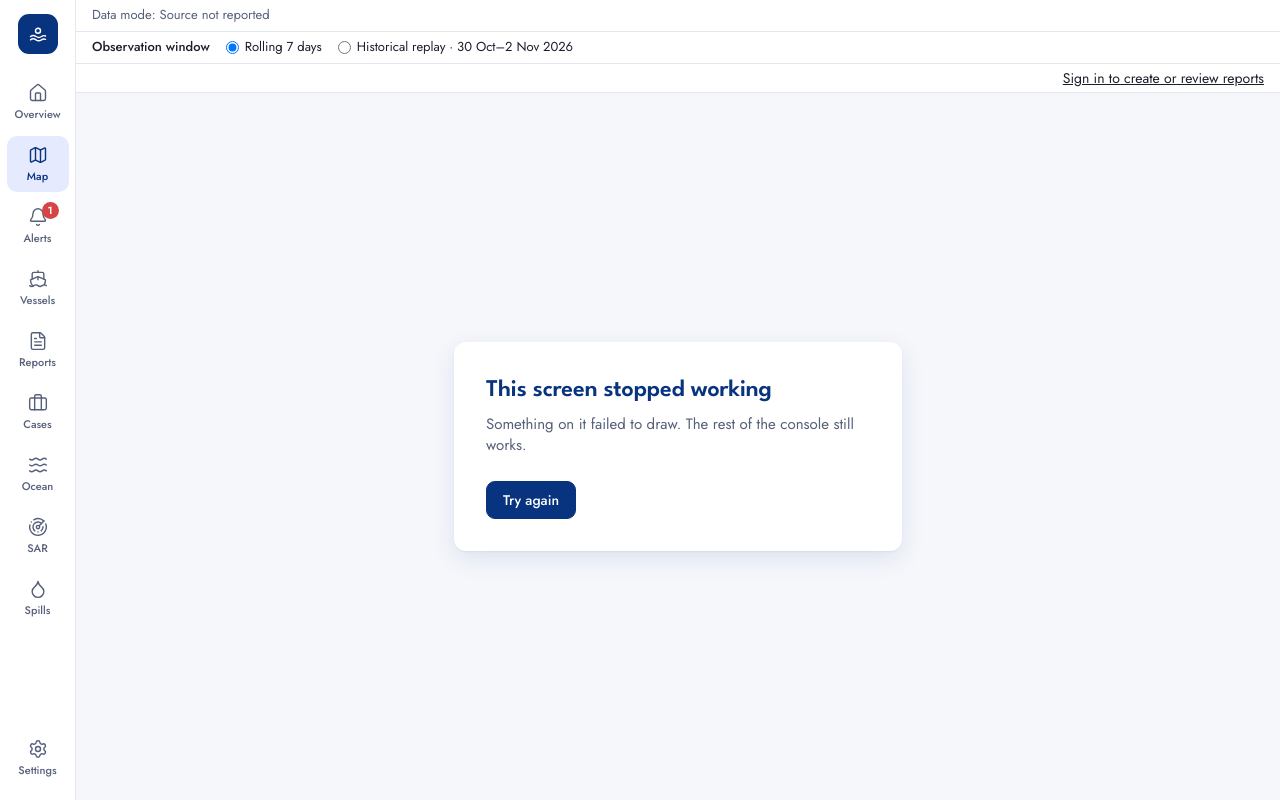
shell › draws the page again when asked
Click the button "Try again" at (531, 500), box [486,481,576,519]
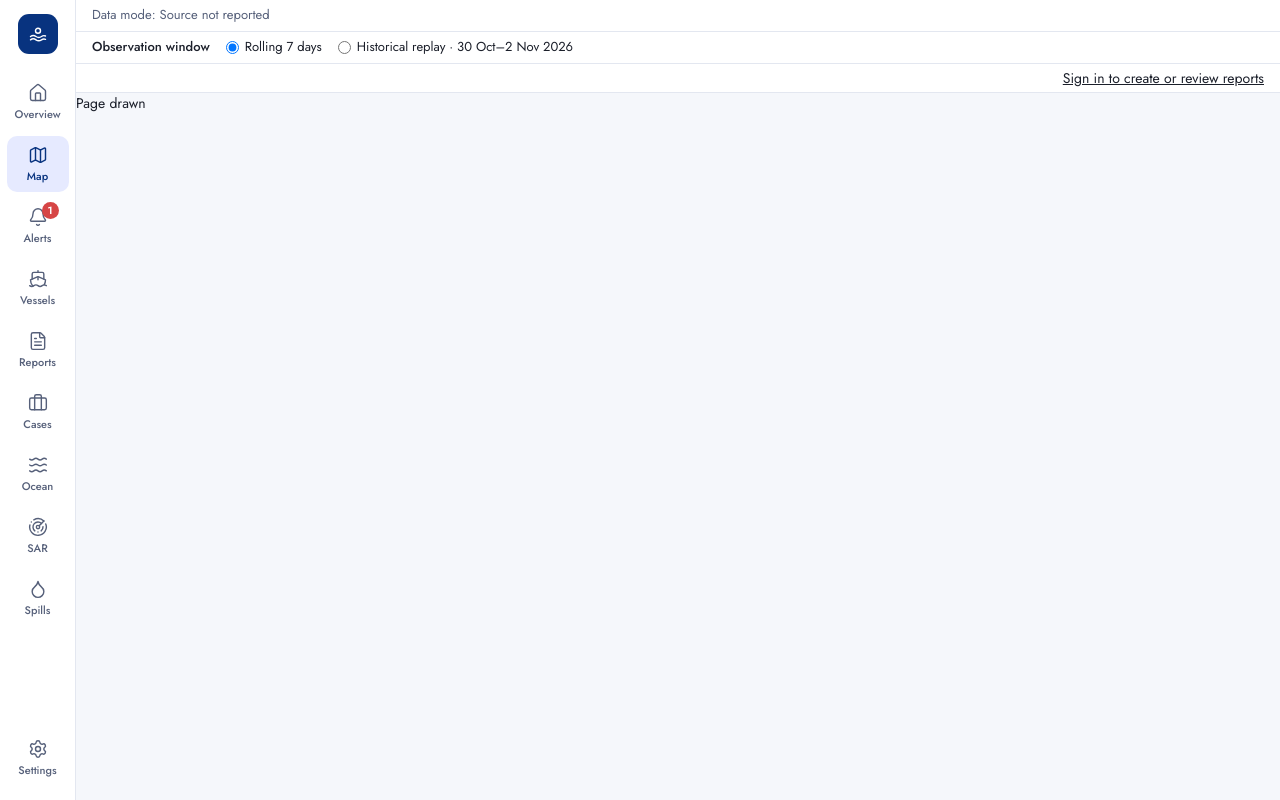
Result: the text "Page drawn" is shown at [76,93,146,113]
